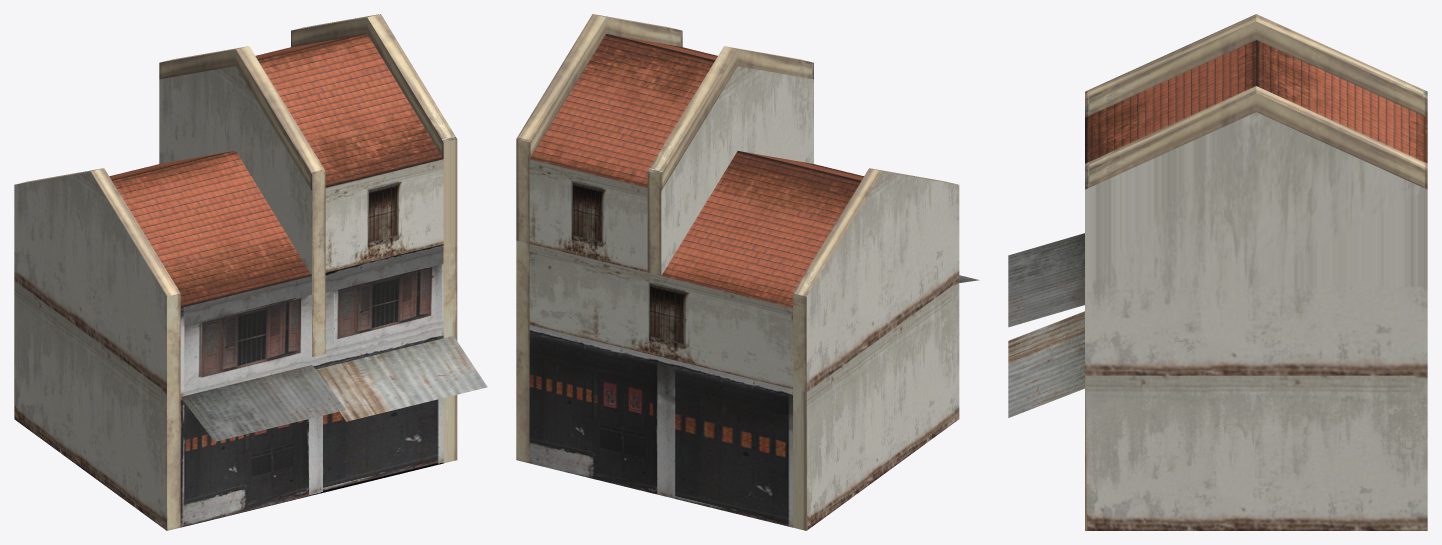
File: SM_Building_Large_06.fbx
The picture shows the model from 3 angles, left to right: view 1: azimuth 30°, elevation 25°; view 2: azimuth 150°, elevation 25°; view 3: azimuth 270°, elevation 25°; orthographic projection. The views are drawn at different scales.
Visible parts, largest first — view 1: SM_Building_Large_06; view 2: SM_Building_Large_06; view 3: SM_Building_Large_06.
Part boxes in pixels (<box>): SM_Building_Large_06: <box>14,14,487,530</box>; SM_Building_Large_06: <box>516,14,979,530</box>; SM_Building_Large_06: <box>1008,14,1427,530</box>.
Bounding box in the file's own units: 9.22 × 11.84 × 10.28.
